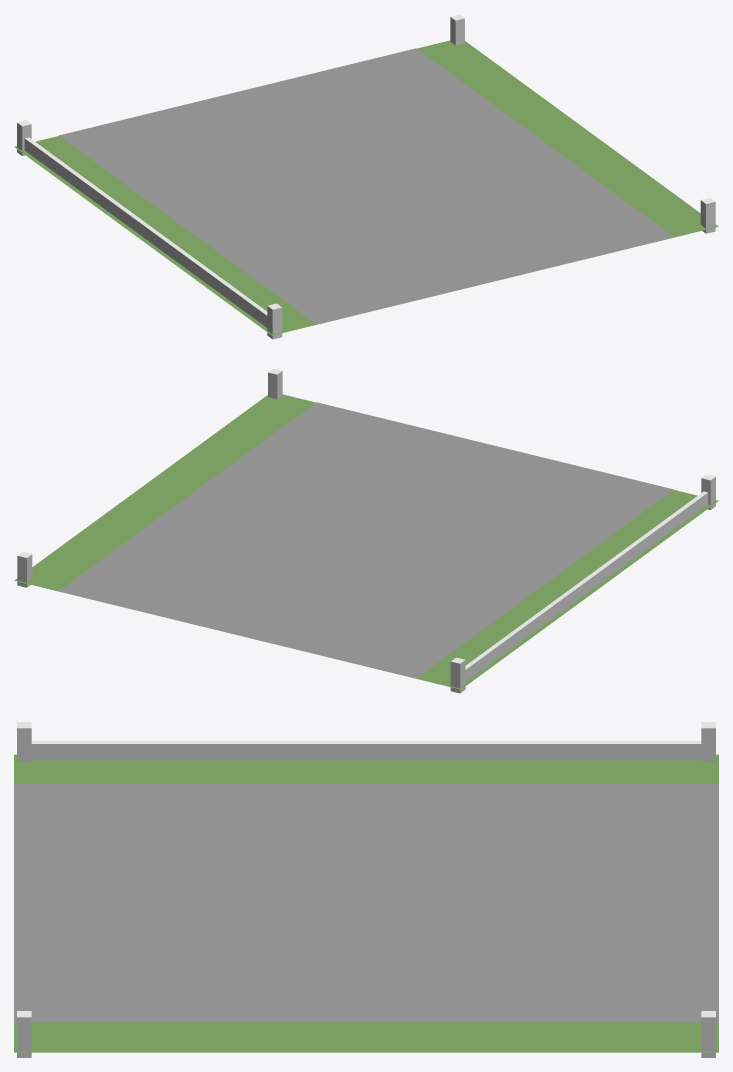
File: tile_for_home_1x1_011.fbx
The picture shows the model from 3 angles, top to bottom: view 1: azimuth 30°, elevation 25°; view 2: azimuth 150°, elevation 25°; view 3: azimuth 270°, elevation 25°; orthographic projection. The views are drawn at different scales.
Parts seen in each view (by area): view 1: tile_for_home_1x1_011; view 2: tile_for_home_1x1_011; view 3: tile_for_home_1x1_011.
Part boxes in pixels (bbox=[...]): tile_for_home_1x1_011: bbox=[14, 14, 718, 339]; tile_for_home_1x1_011: bbox=[14, 368, 718, 693]; tile_for_home_1x1_011: bbox=[14, 722, 718, 1057].
Bounding box in the file's own units: 800 × 50.88 × 800.
